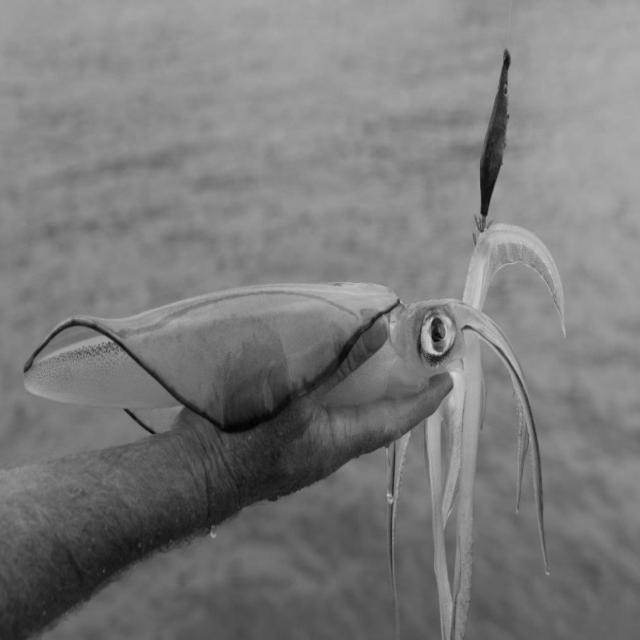SQUID: (7, 248, 604, 499)
